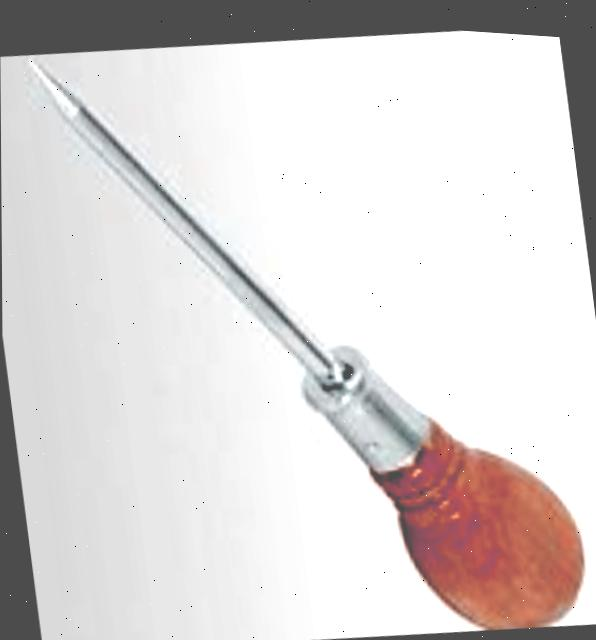ice pick: (32, 2, 594, 640)
